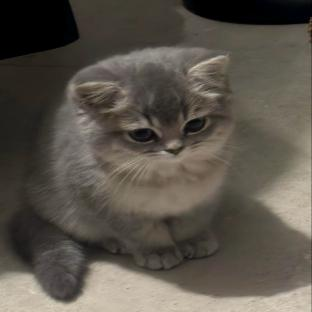Animal: (11, 47, 234, 299)
